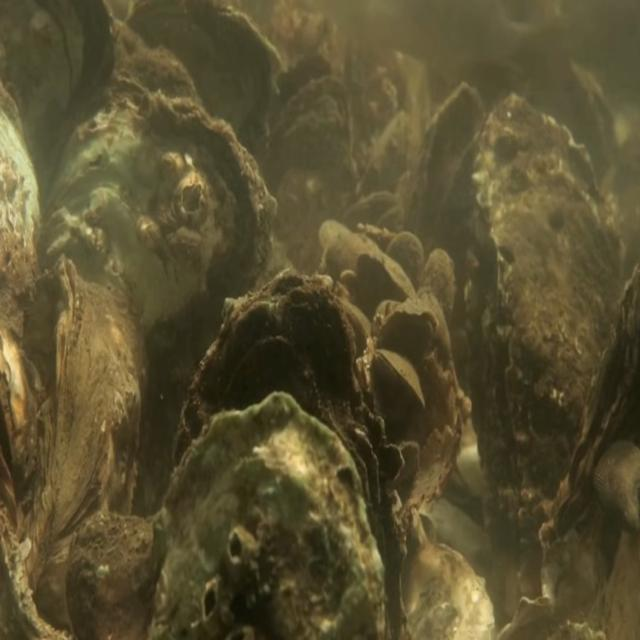Oyster-Closed: (43, 87, 277, 500), (173, 265, 405, 640), (463, 90, 623, 534), (146, 388, 384, 640), (537, 256, 640, 590), (372, 346, 426, 409), (381, 306, 438, 354)
Oyster-Indeterminate: (28, 250, 144, 640), (407, 78, 488, 310), (356, 246, 416, 300), (385, 229, 425, 300), (422, 245, 454, 320)
Oyster-Open: (256, 52, 353, 264)
